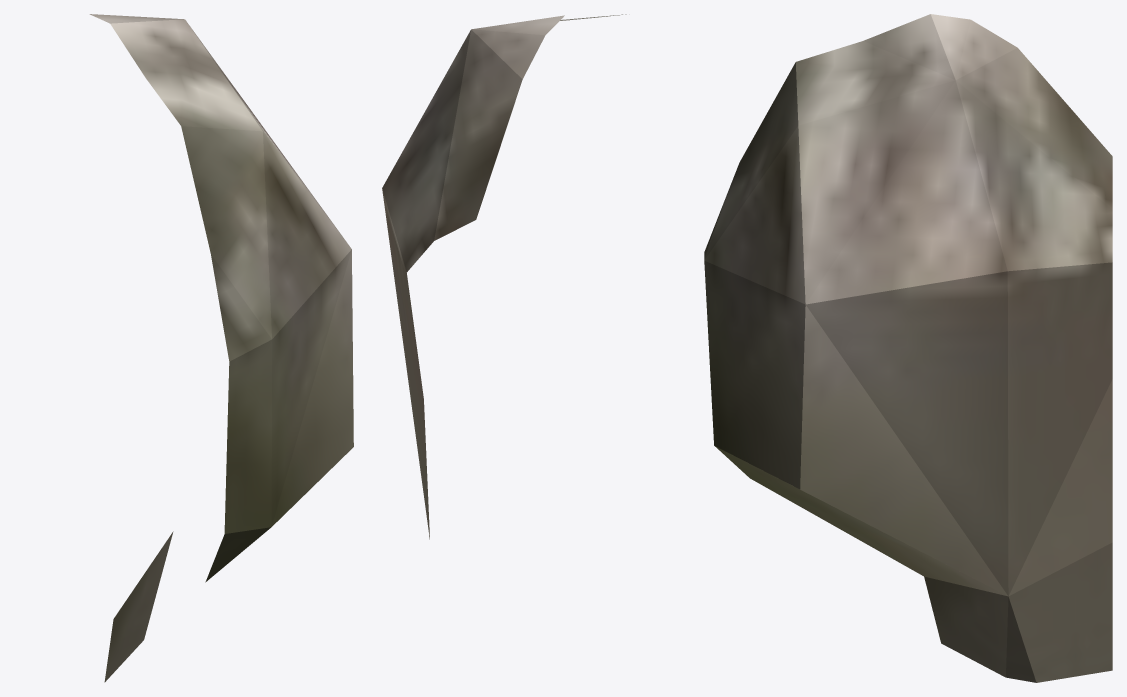
The picture shows the model from 3 angles, left to right: view 1: azimuth 30°, elevation 25°; view 2: azimuth 150°, elevation 25°; view 3: azimuth 270°, elevation 25°; orthographic projection. The views are drawn at different scales.
Size of the model in its own units: 0.1506 by 0.5426 by 0.319.
Materials: 1 (1 with a texture image).
